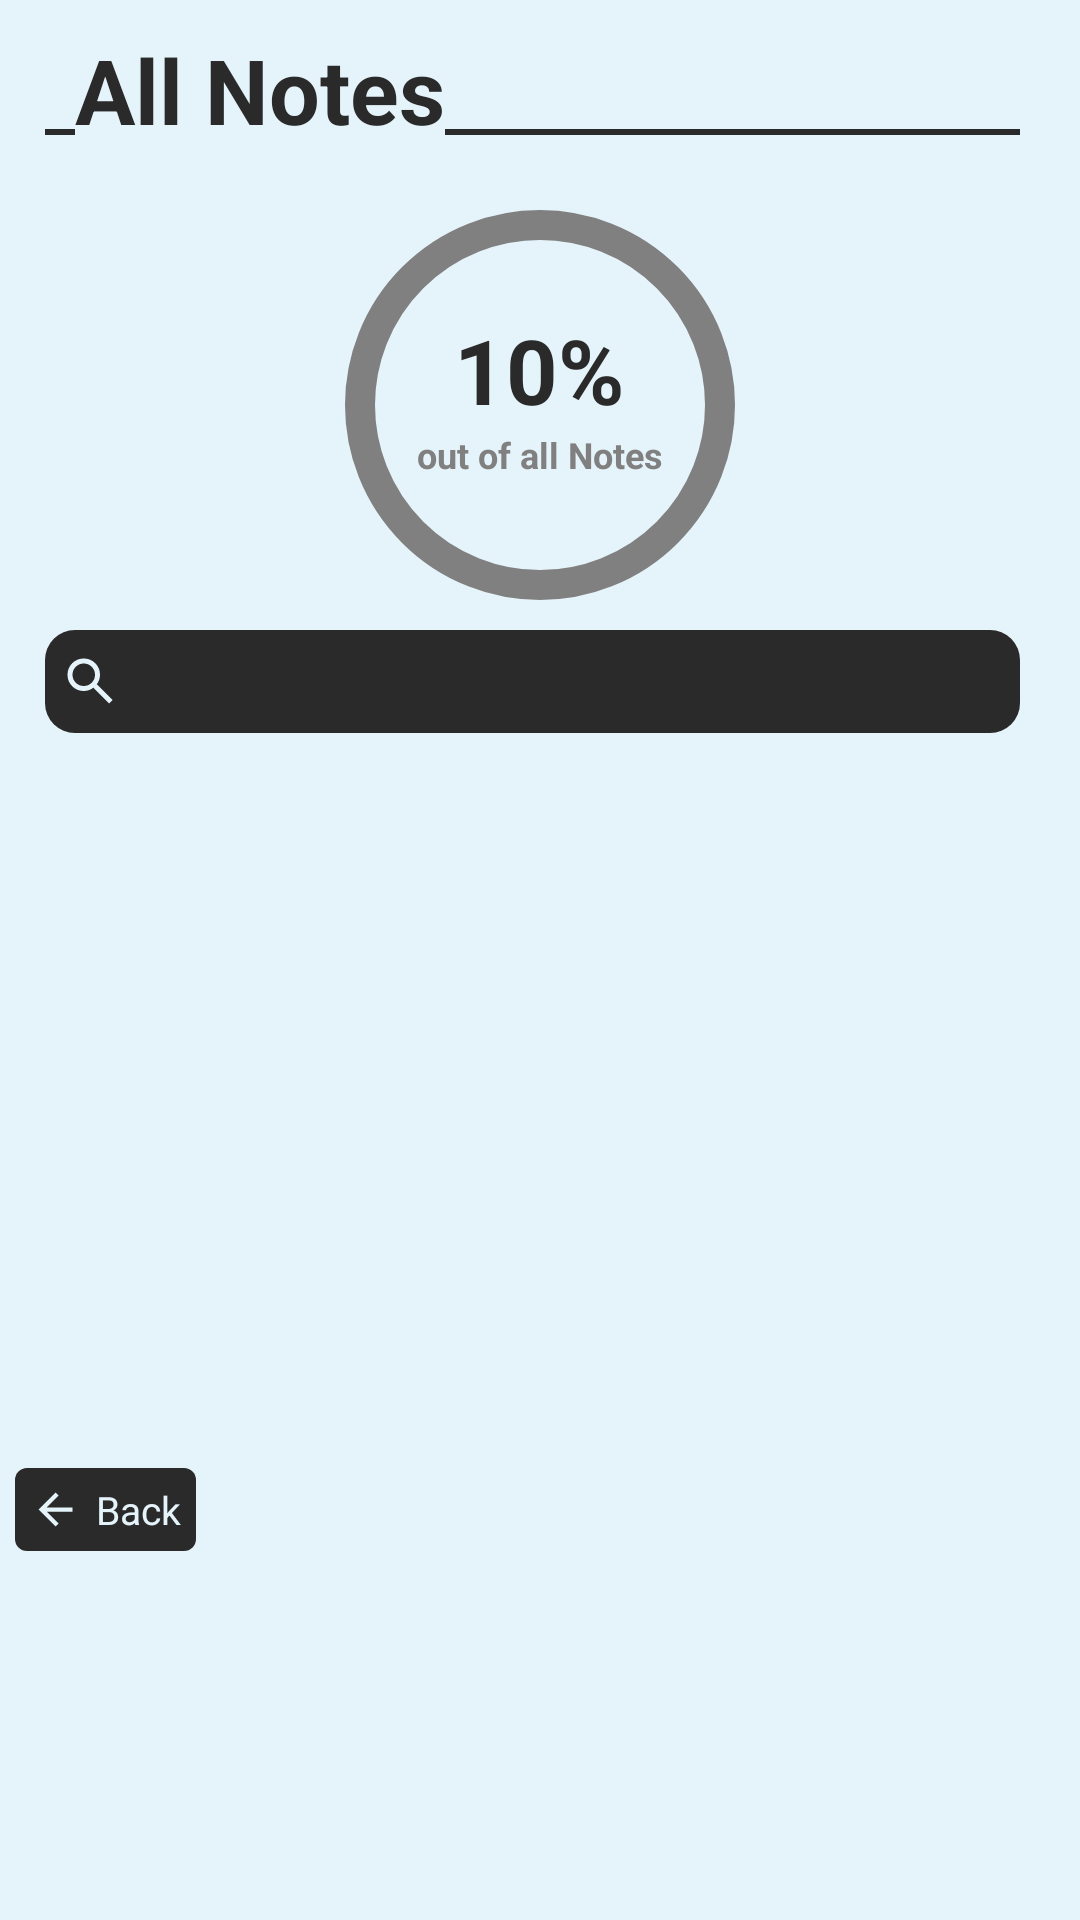

Screen size 1080 × 1920. Icon name, then its center in pixels as point (x, y):
search: point (90, 681)
